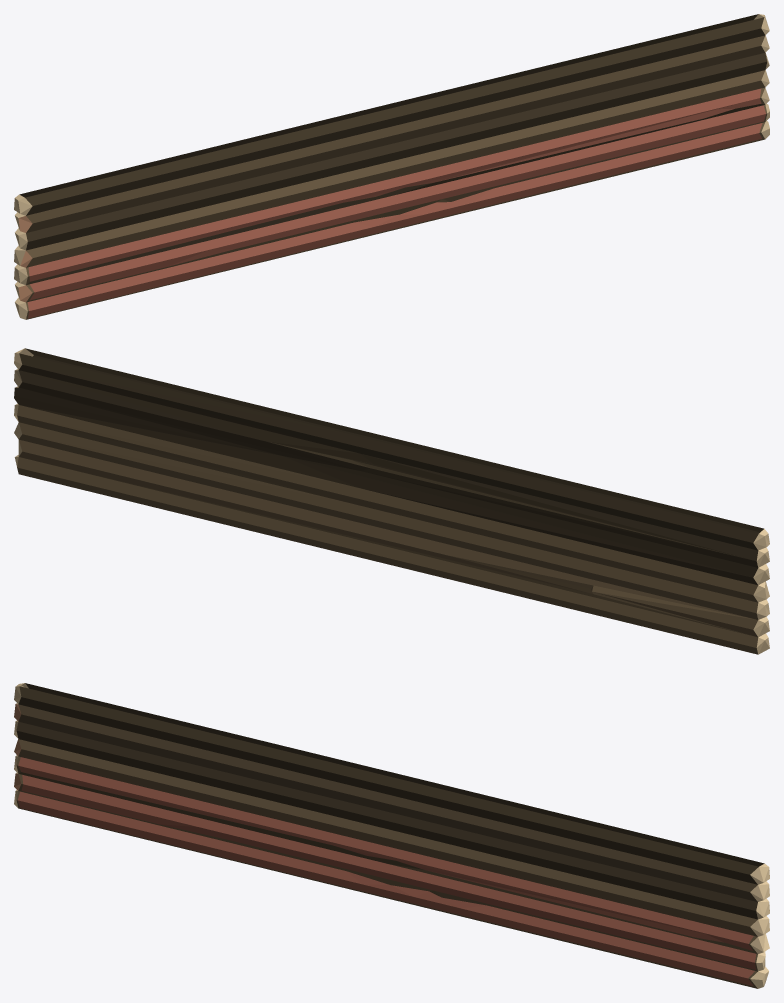
The model's file is EA03_Village_Hut_Wall_Painted_Side_02c.glb.
3 renders of one model, top to bottom at view 1: azimuth 30°, elevation 25°; view 2: azimuth 150°, elevation 25°; view 3: azimuth 330°, elevation 25°, orthographic.
Visible parts, largest first — view 1: EA03_Village_Hut_Wall_Painted_Side_02c; view 2: EA03_Village_Hut_Wall_Painted_Side_02c; view 3: EA03_Village_Hut_Wall_Painted_Side_02c.
Boxes of the visible parts, x1=… form: EA03_Village_Hut_Wall_Painted_Side_02c: x1=14, y1=14, x2=769, y2=319; EA03_Village_Hut_Wall_Painted_Side_02c: x1=14, y1=348, x2=769, y2=654; EA03_Village_Hut_Wall_Painted_Side_02c: x1=14, y1=683, x2=769, y2=988.
Bounding box in the file's own units: 20.02 × 3.09 × 0.5469.
1 material, 1 textured.
